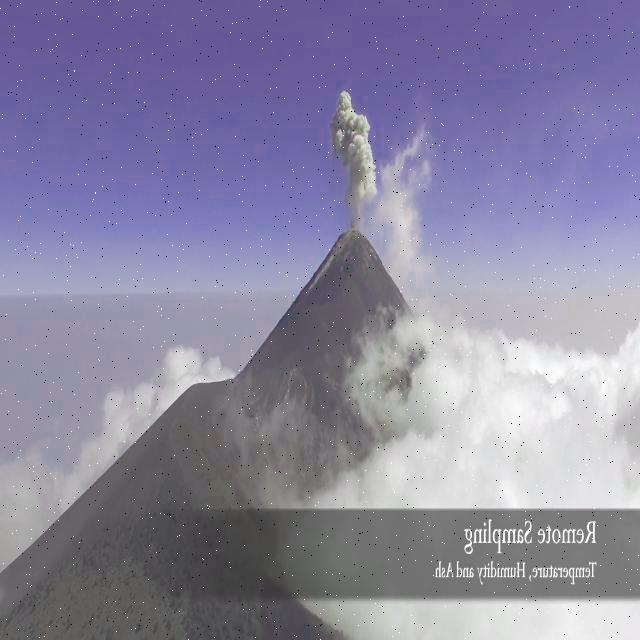Plume: (320, 80, 388, 234)
Summit: (119, 222, 535, 469)
